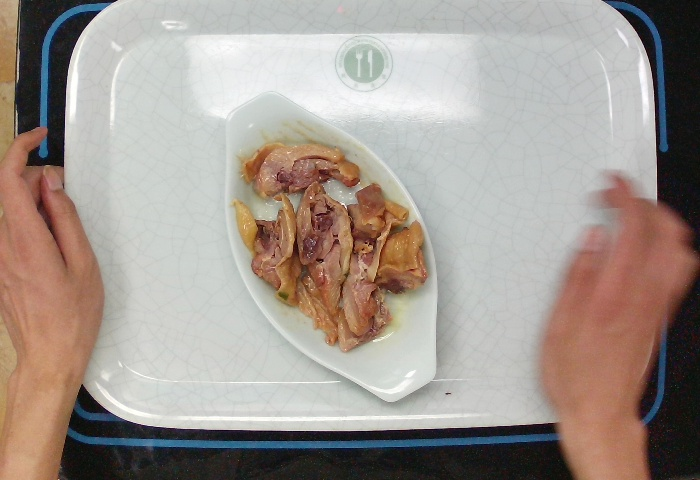JYsf-Yu_Pan: (219, 90, 440, 401)
